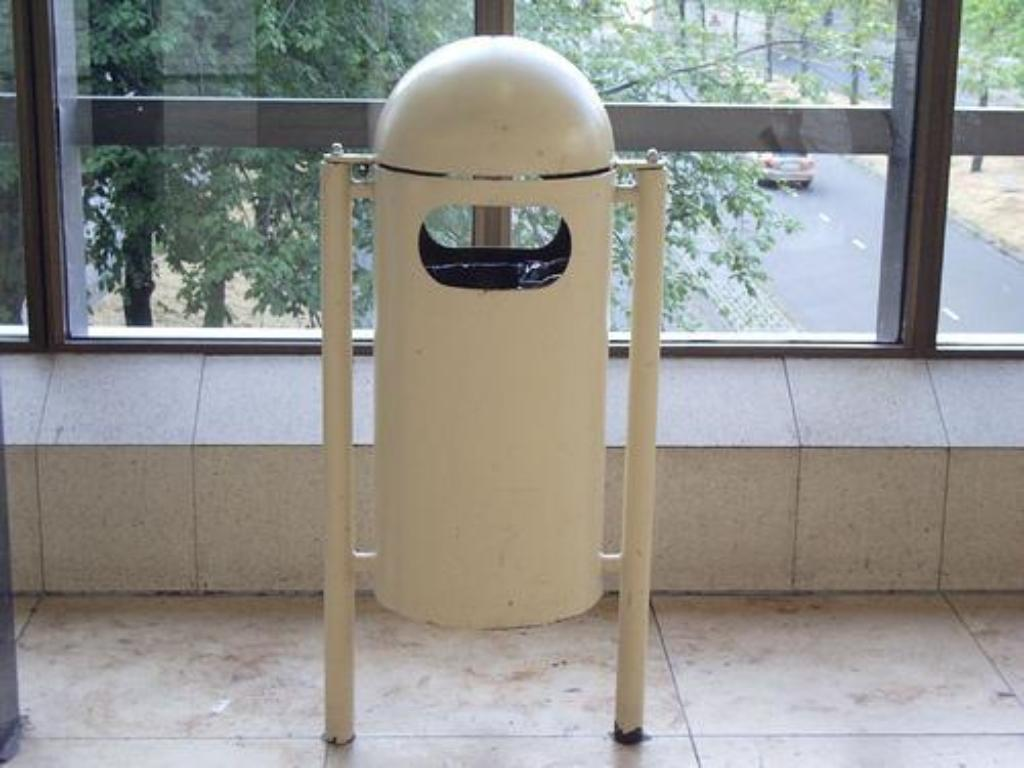dustbin: (312, 31, 670, 764)
